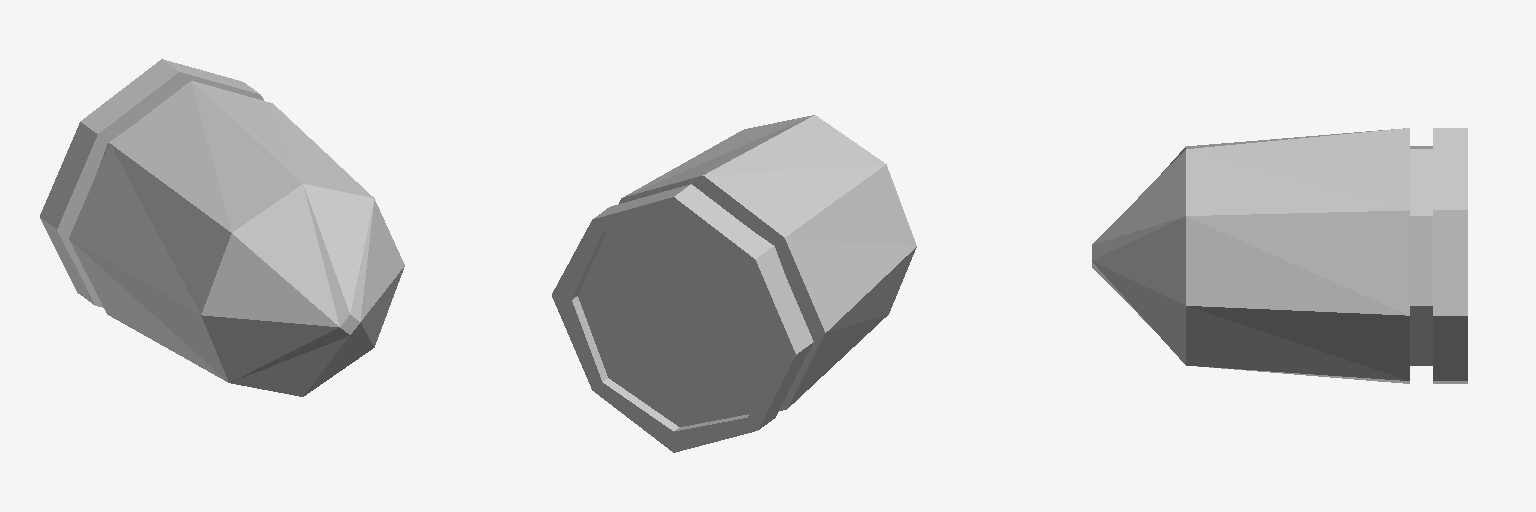
The model's file is Bullet.obj.
3 views of the same model, side by side, from view 1: azimuth 30°, elevation 25°; view 2: azimuth 150°, elevation 25°; view 3: azimuth 270°, elevation 25° (orthographic).
Parts seen in each view (by area): view 1: Bullet_0; view 2: Bullet_0; view 3: Bullet_0.
Boxes of the visible parts, <box> form: Bullet_0: <box>40,59,404,396</box>; Bullet_0: <box>552,115,916,452</box>; Bullet_0: <box>1092,128,1467,383</box>.
Bounding box in the file's own units: 0.75 × 0.75 × 1.